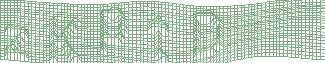D: (192, 8, 225, 62)
K: (47, 15, 82, 63)
P: (98, 7, 130, 58)
t: (147, 14, 173, 63)
z: (1, 23, 31, 63)
